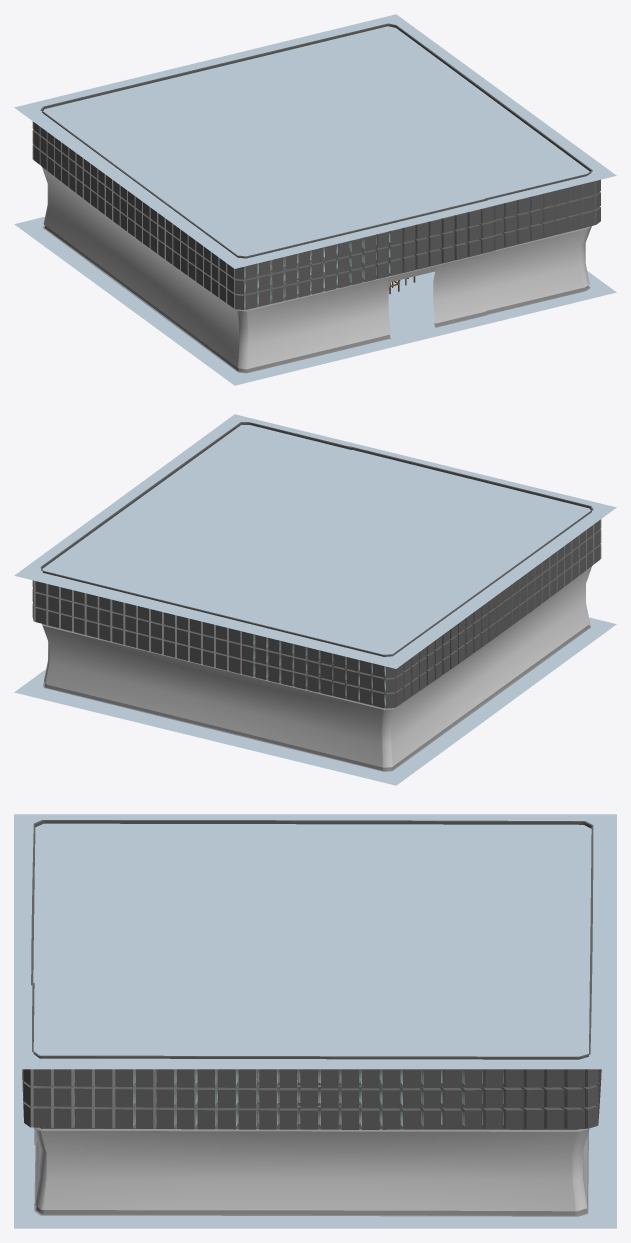
The model's file is m_SmallRoom_1_Conference.fbx.
3 renders of one model, top to bottom at view 1: azimuth 30°, elevation 25°; view 2: azimuth 150°, elevation 25°; view 3: azimuth 270°, elevation 25°, orthographic. The views are drawn at different scales.
Parts seen in each view (by area): view 1: m_floorWallCeiling; view 2: m_floorWallCeiling; view 3: m_floorWallCeiling.
Boxes of the visible parts, box(x1,y1,x2,y2) form: m_floorWallCeiling: box(14, 14, 616, 385); m_floorWallCeiling: box(14, 414, 616, 785); m_floorWallCeiling: box(14, 814, 616, 1228).
Size of the model in its own units: 1515 by 451 by 1515.
